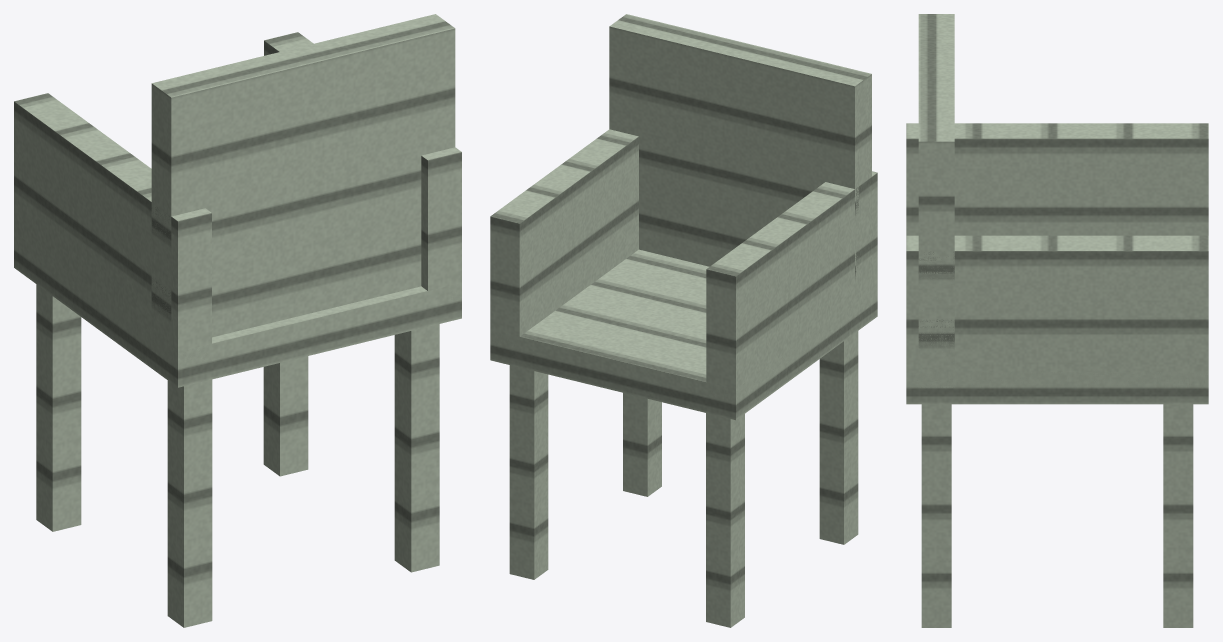
Rendered from task_office_chair.glb.
3 views of the same model, side by side, from view 1: azimuth 30°, elevation 25°; view 2: azimuth 150°, elevation 25°; view 3: azimuth 270°, elevation 25° (orthographic). The views are drawn at different scales.
Parts seen in each view (by area): view 1: task_office_chair-col; view 2: task_office_chair-col; view 3: task_office_chair-col.
Part boxes in pixels (x1,y1,x2,y2): task_office_chair-col: (14,14,461,627); task_office_chair-col: (490,14,877,627); task_office_chair-col: (906,14,1208,627).
Bounding box in the file's own units: 0.5 × 0.9 × 0.5.
1 material, 1 textured.
